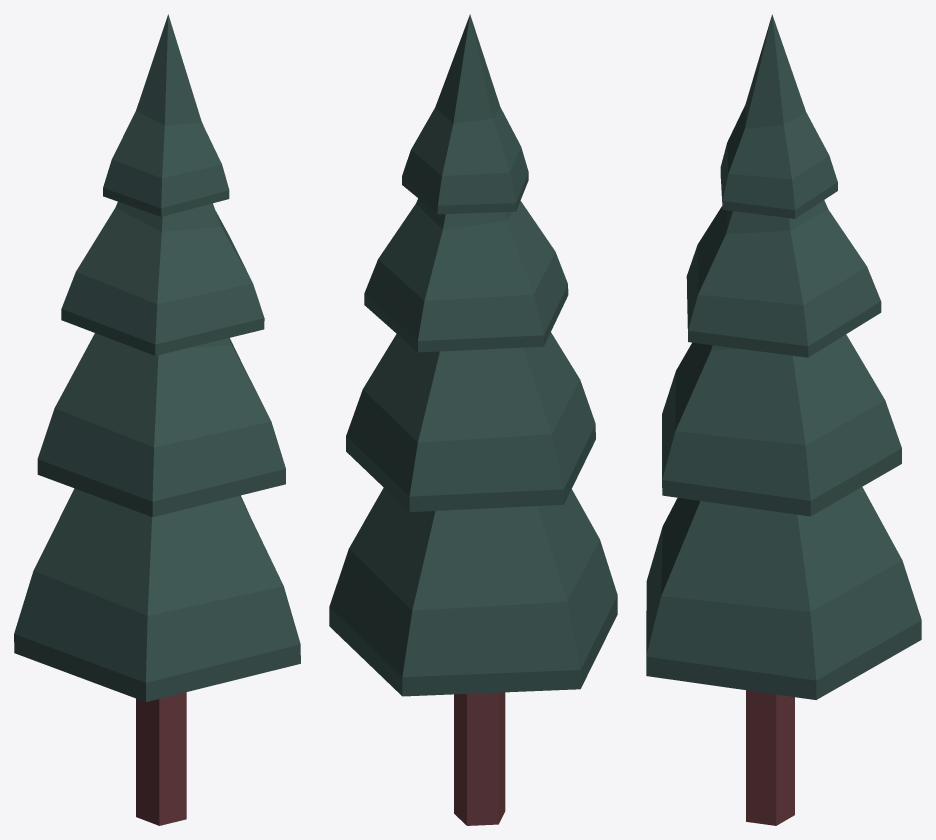
Rendered from tree_4.fbx.
3 views of the same model, side by side, from view 1: azimuth 30°, elevation 25°; view 2: azimuth 150°, elevation 25°; view 3: azimuth 270°, elevation 25° (orthographic).
Parts seen in each view (by area): view 1: Cone, Cone.001, Cone.002, Cone.003, Cylinder; view 2: Cone, Cone.001, Cone.002, Cone.003, Cylinder; view 3: Cone, Cone.001, Cone.002, Cone.003, Cylinder.
Boxes of the visible parts, x1,y1,x2,y2 form: Cone: (14, 488, 300, 701); Cone.001: (37, 333, 285, 517); Cone.002: (61, 201, 264, 355); Cone.003: (103, 14, 229, 216); Cylinder: (136, 692, 186, 825); Cone: (329, 488, 617, 696); Cone.001: (346, 332, 595, 511); Cone.002: (364, 198, 568, 352); Cone.003: (402, 14, 528, 214); Cylinder: (454, 692, 505, 825); Cone: (646, 487, 921, 699); Cone.001: (662, 334, 901, 516); Cone.002: (686, 200, 881, 357); Cone.003: (720, 14, 837, 218); Cylinder: (746, 690, 794, 825).
Bounding box in the file's own units: 71.12 × 216 × 67.14.
